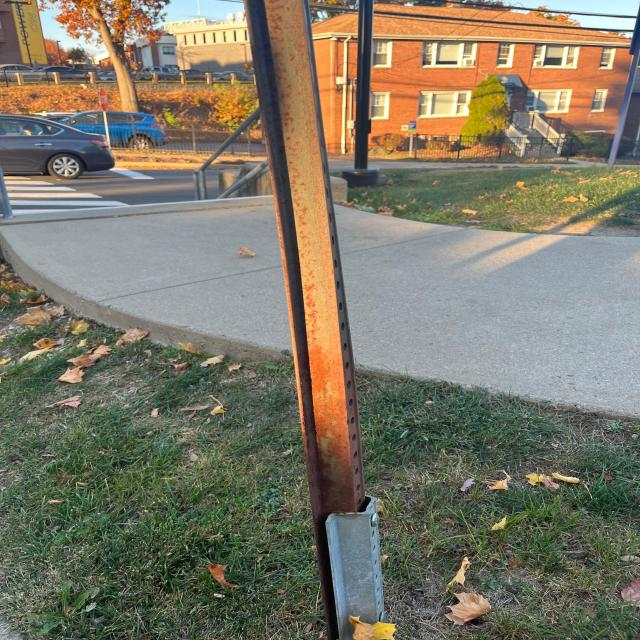Uniform Corrosion: (246, 1, 366, 640)
